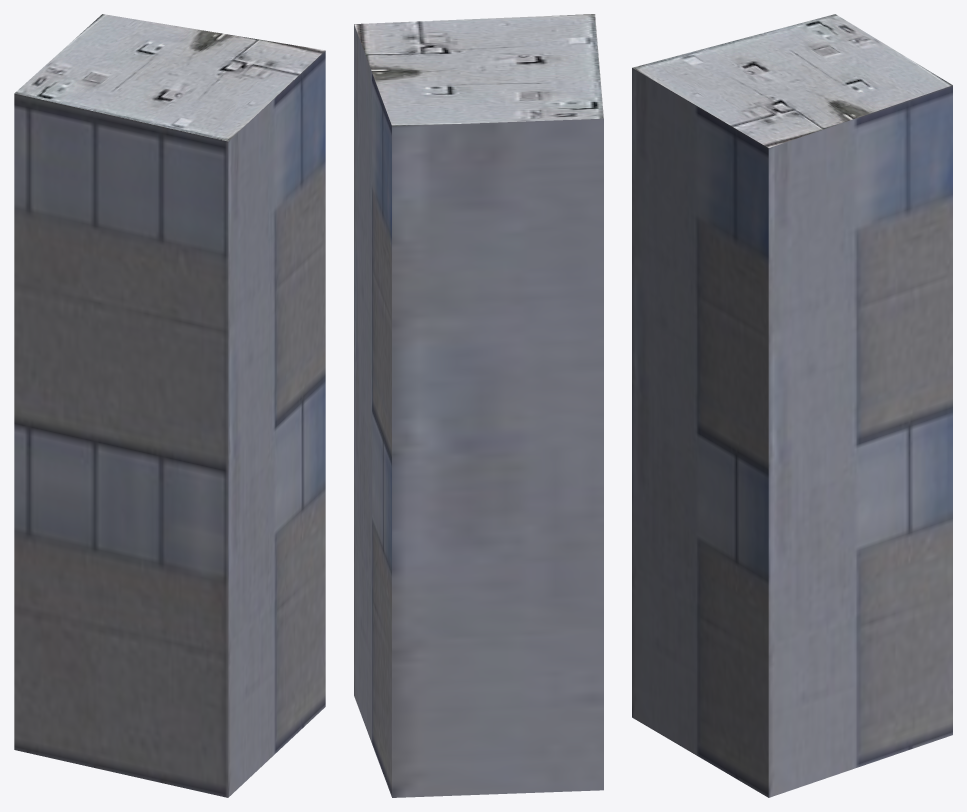
Rendered from RelTex__16.fbx.
The picture shows the model from 3 angles, left to right: view 1: azimuth 30°, elevation 25°; view 2: azimuth 150°, elevation 25°; view 3: azimuth 270°, elevation 25°; orthographic projection. The views are drawn at different scales.
Visible parts, largest first — view 1: CityEngineMaterial_22_m, CityEngineMaterial_25_m; view 2: CityEngineMaterial_22_m, CityEngineMaterial_25_m; view 3: CityEngineMaterial_22_m, CityEngineMaterial_25_m.
Part boxes in pixels (x1=…): CityEngineMaterial_22_m: x1=14, y1=51, x2=325, y2=797; CityEngineMaterial_25_m: x1=14, y1=14, x2=325, y2=141; CityEngineMaterial_22_m: x1=354, y1=24, x2=603, y2=797; CityEngineMaterial_25_m: x1=354, y1=14, x2=603, y2=126; CityEngineMaterial_22_m: x1=632, y1=68, x2=952, y2=797; CityEngineMaterial_25_m: x1=632, y1=14, x2=952, y2=147.
Size of the model in its own units: 2.66 by 6 by 2.69.
Materials: 2 (2 with a texture image).
